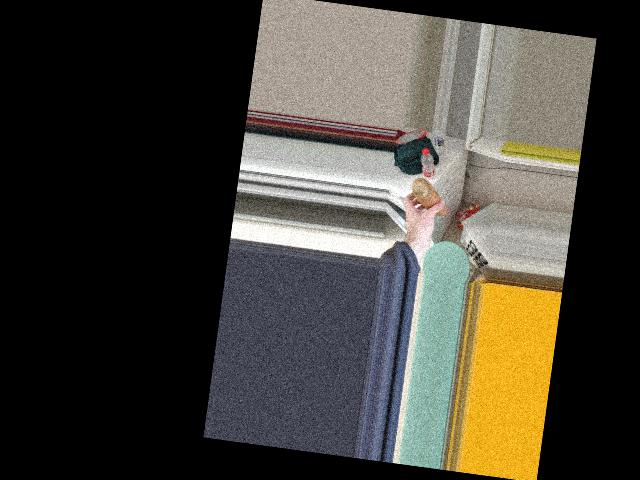sweet_potato: (405, 177, 453, 216)
